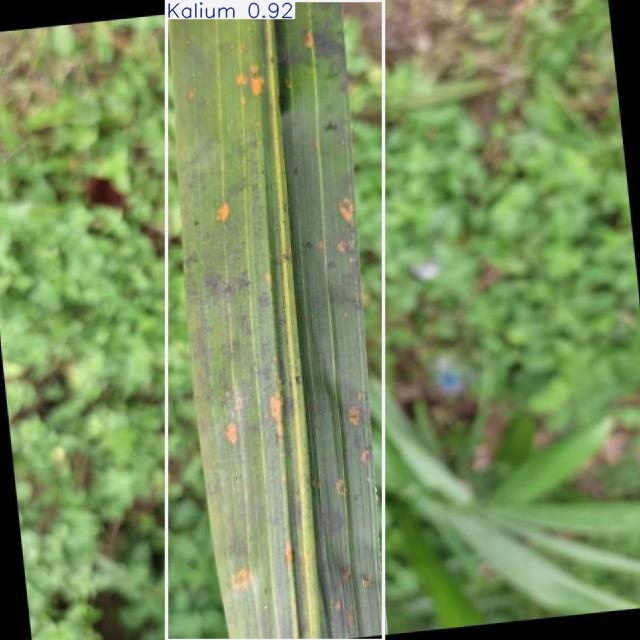Kalium: (166, 1, 384, 640)
